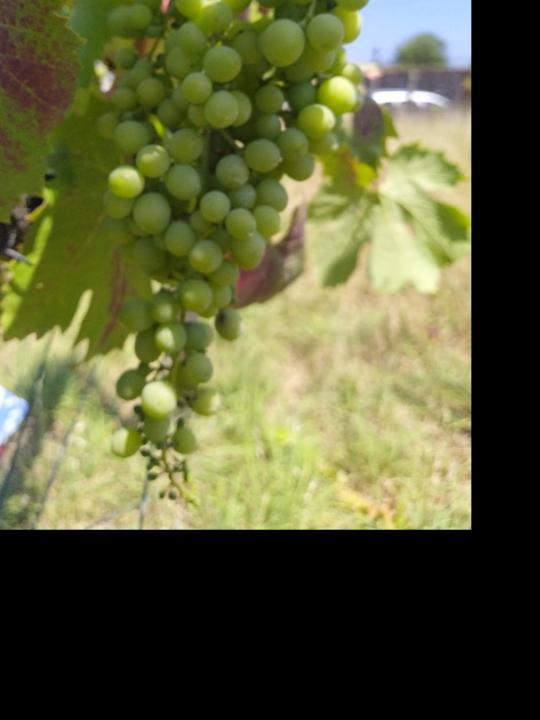grape: (100, 0, 392, 503)
